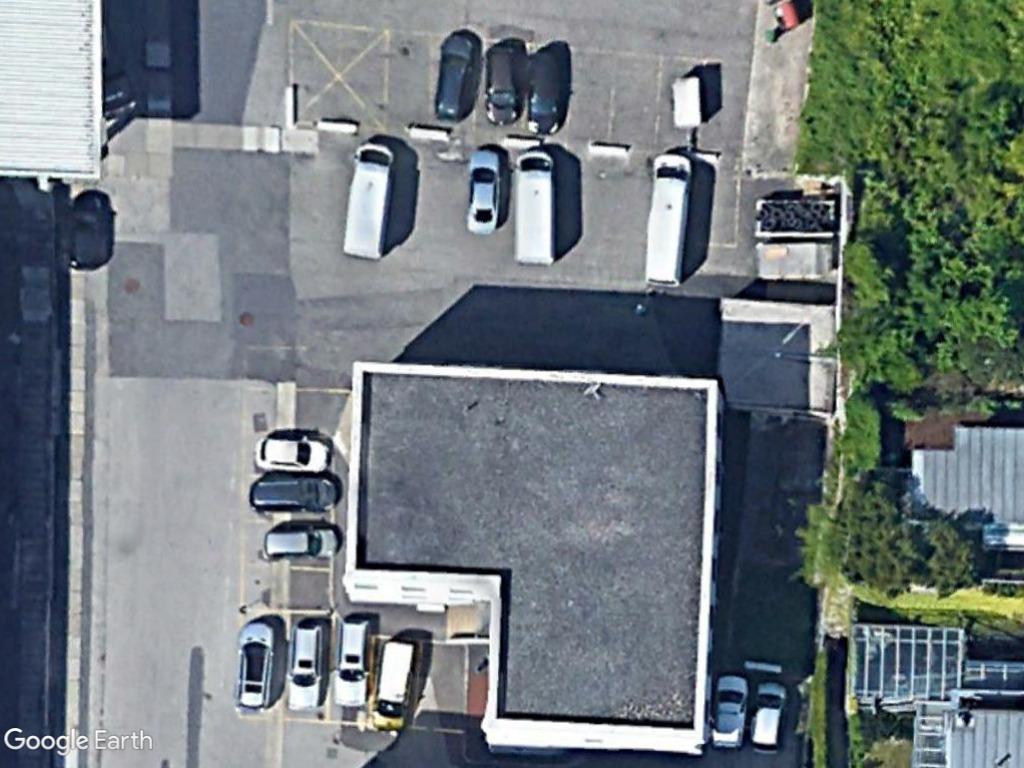car: (430, 27, 479, 123), (232, 614, 278, 713), (243, 474, 344, 518), (283, 614, 329, 710), (329, 611, 374, 709), (461, 146, 507, 240), (522, 48, 566, 138), (481, 40, 526, 127), (249, 428, 332, 474), (256, 521, 342, 565), (747, 673, 790, 752), (709, 669, 748, 752)
van: (339, 136, 400, 265), (639, 149, 694, 290), (510, 144, 562, 272), (367, 634, 418, 732)
